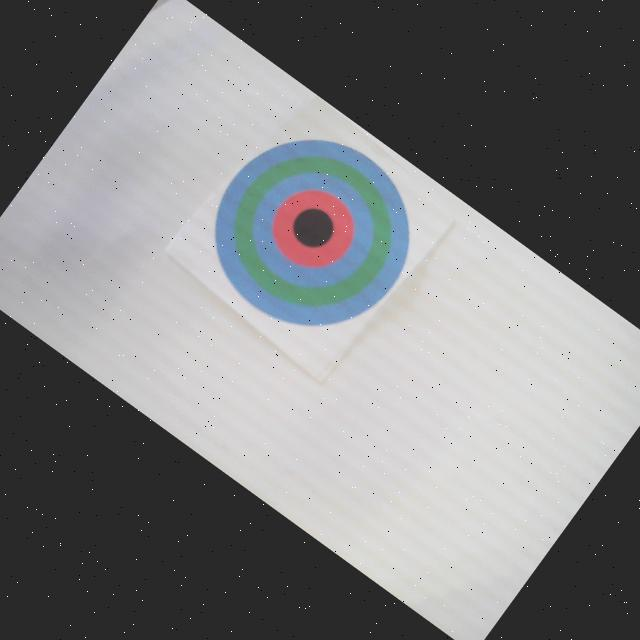COGNITIVE: (179, 100, 445, 366)
